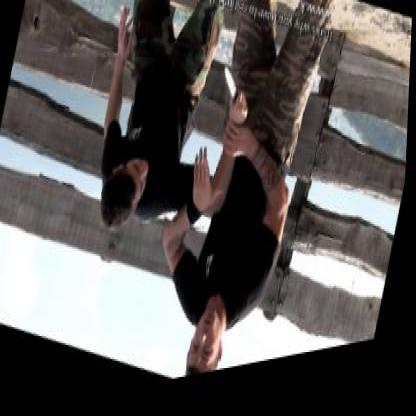knife: (215, 66, 258, 138)
